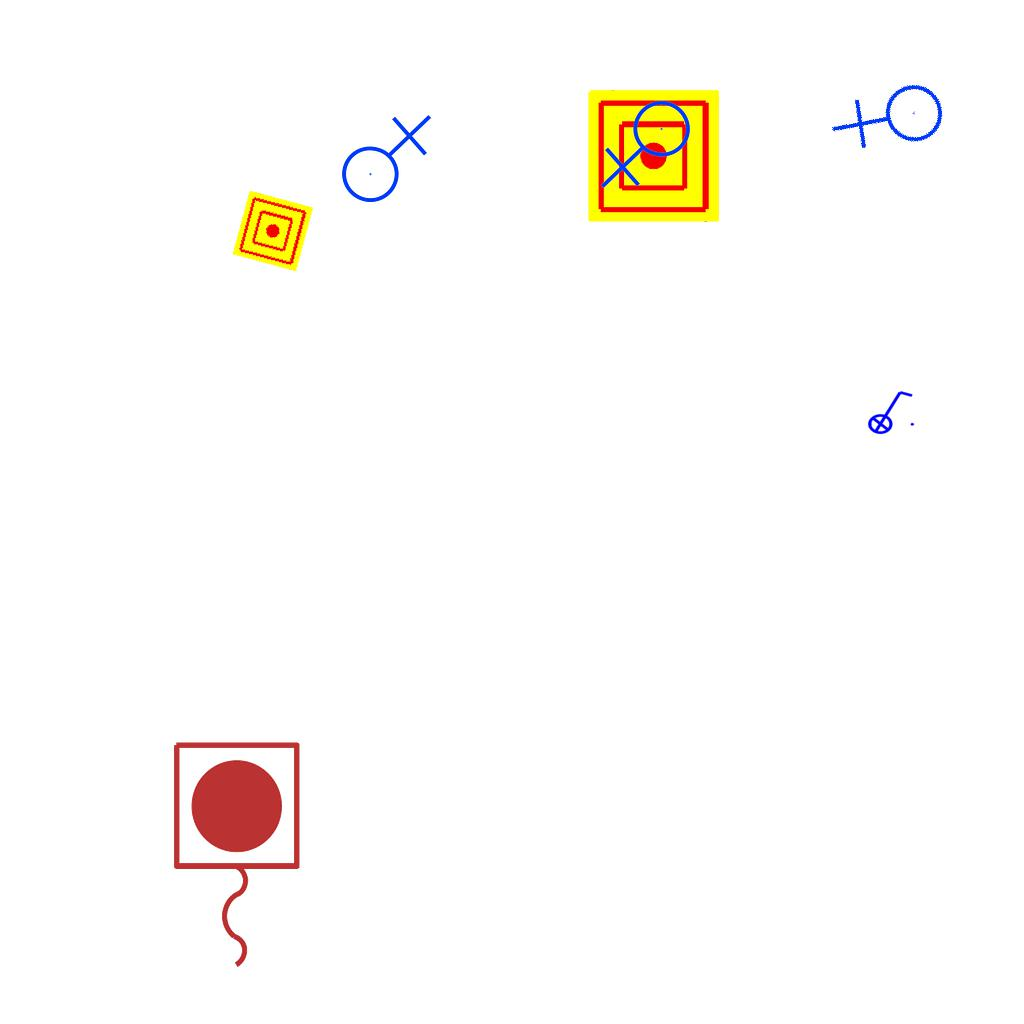Ausschalter_beleuchtet: (861, 387, 917, 435)
Elektroanschluss_allgemein_230V_Geraeteanschlussdose_230V: (827, 54, 962, 188), (333, 110, 432, 204), (600, 99, 699, 193)
NAM-Nichtautomatischer_Melder: (588, 90, 720, 222), (232, 190, 314, 272)
Zugtaster: (163, 734, 307, 978)
